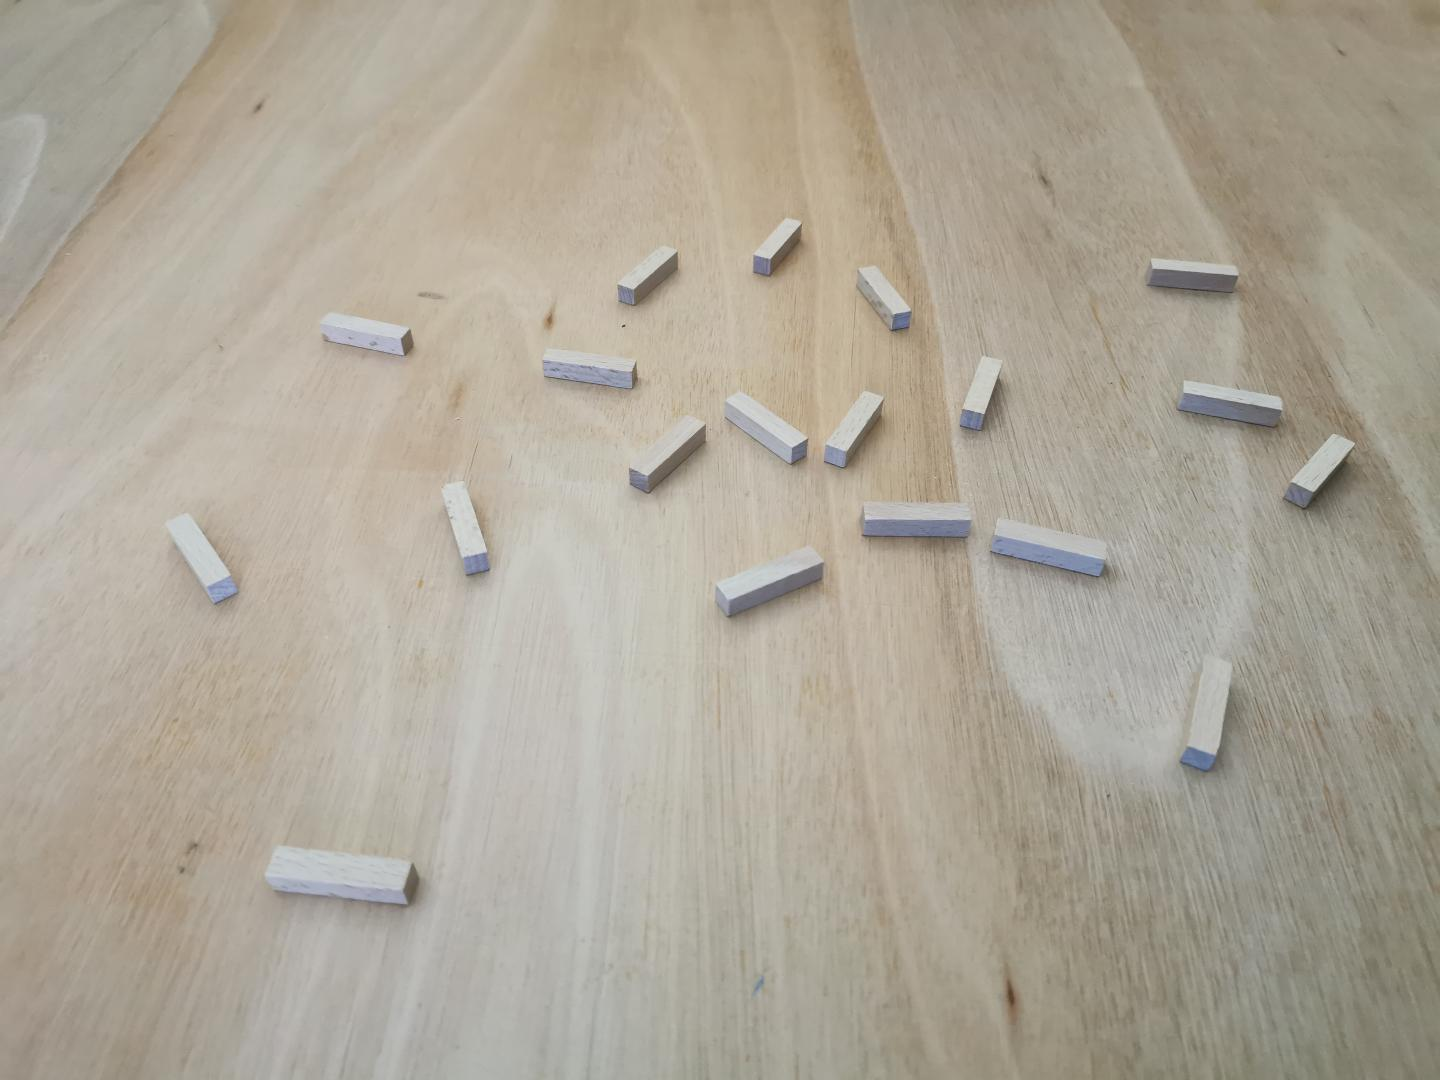jenga: (264, 846, 420, 905), (714, 546, 824, 616), (990, 517, 1106, 576), (166, 515, 236, 602), (726, 391, 807, 464), (630, 416, 706, 492), (1181, 656, 1231, 770), (1286, 433, 1356, 506), (1178, 380, 1282, 428), (441, 481, 490, 574), (824, 391, 883, 467), (321, 312, 414, 354), (543, 348, 636, 388), (864, 504, 971, 538), (855, 268, 912, 329), (619, 247, 678, 304), (1147, 259, 1237, 293), (959, 357, 1001, 430), (754, 219, 802, 276)
